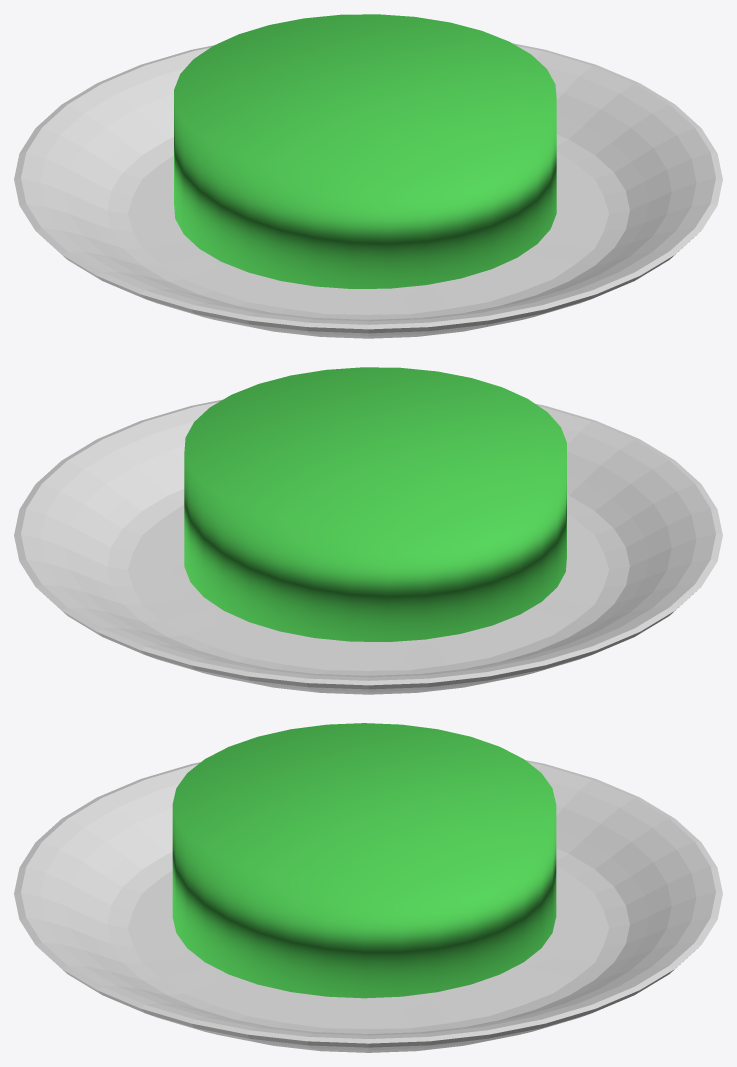
The model's file is BOLU KUKUS KEMOJO.fbx.
3 views of the same model, one above another, from view 1: azimuth 30°, elevation 25°; view 2: azimuth 150°, elevation 25°; view 3: azimuth 270°, elevation 25° (orthographic).
Parts seen in each view (by area): view 1: Cylinder.003, Cylinder; view 2: Cylinder.003, Cylinder; view 3: Cylinder.003, Cylinder.
Boxes of the visible parts, x1,y1,x2,y2 form: Cylinder.003: [174, 14, 556, 288]; Cylinder: [14, 43, 722, 338]; Cylinder.003: [184, 367, 566, 641]; Cylinder: [14, 399, 722, 694]; Cylinder.003: [172, 723, 556, 998]; Cylinder: [14, 760, 722, 1052].
Bounding box in the file's own units: 231 × 50.45 × 231.
